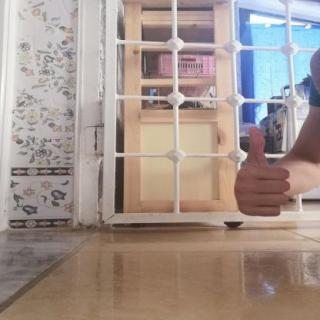ALIF: (227, 118, 296, 222)
